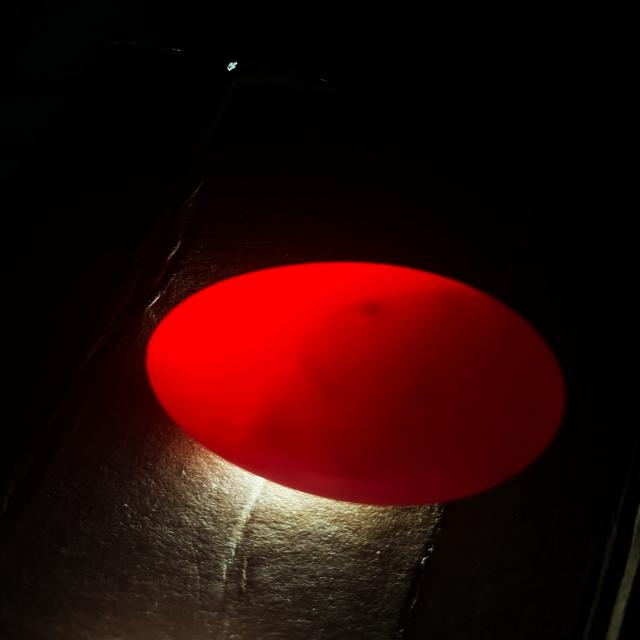fertile: (147, 261, 563, 505)
